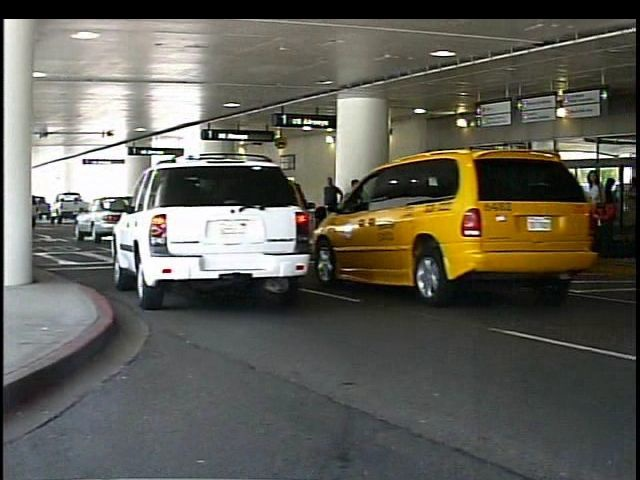person: (505, 167, 534, 261), (342, 178, 368, 254), (321, 172, 348, 245), (602, 176, 622, 245)
